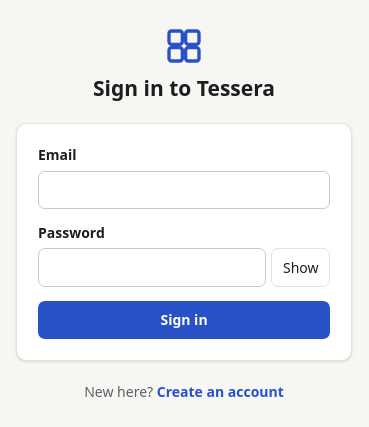
it: Sign in › says what is wrong with the email before asking the API
Type "not-an-email" into the field labelled "Email" at coordinates (184, 190), box [38,171,330,209]
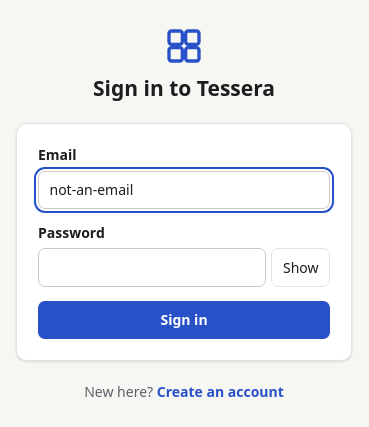
Type "anything" into the password field labelled "Password" at coordinates (152, 268), box [38,248,266,287]
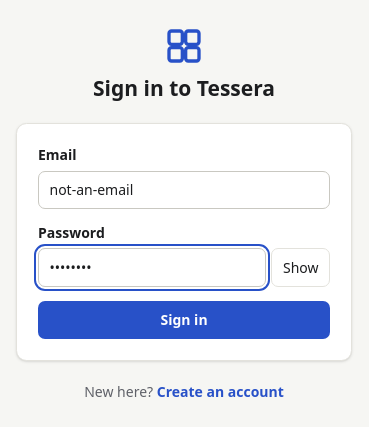
Click the button "Sign in" at coordinates (184, 320), box [38,301,330,339]
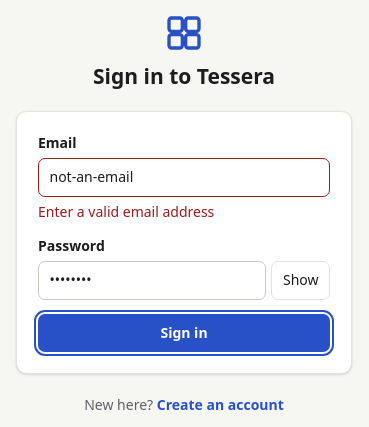
Expected: the text "Enter a valid email address" is shown, [38,202,214,221]
